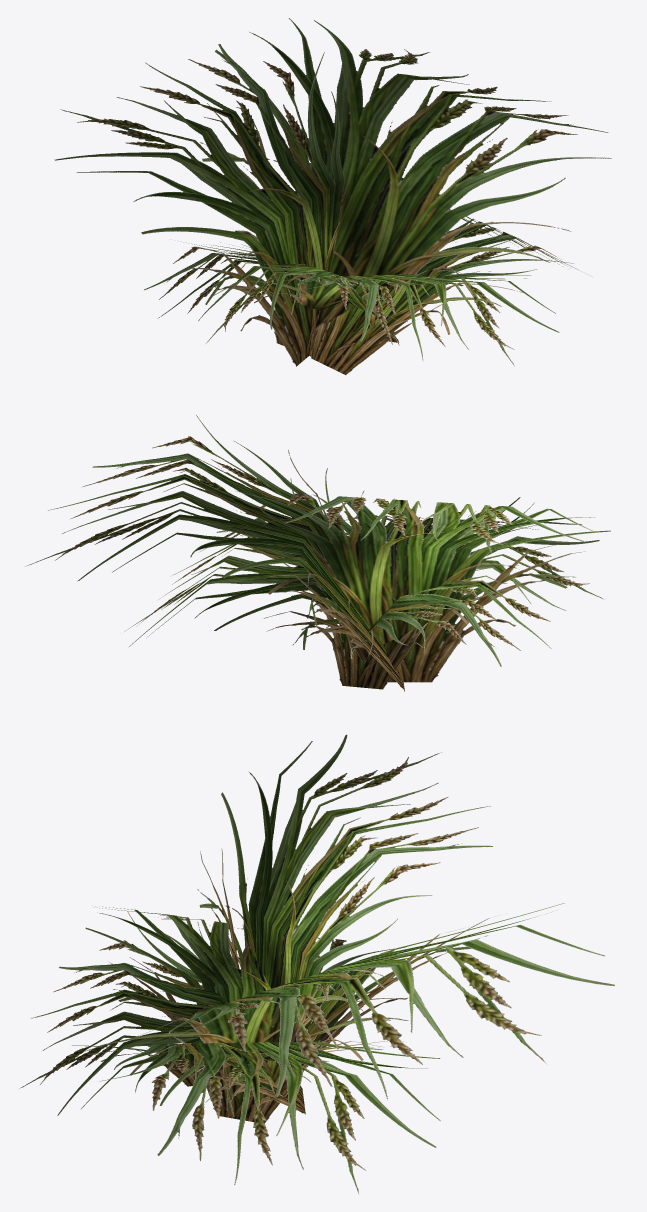
File: SM_Carex_01.fbx
3 views of the same model, one above another, from view 1: azimuth 30°, elevation 25°; view 2: azimuth 150°, elevation 25°; view 3: azimuth 270°, elevation 25° (orthographic). The views are drawn at different scales.
Visible parts, largest first — view 1: SM_Carex_01; view 2: SM_Carex_01; view 3: SM_Carex_01.
Part boxes in pixels (<box>): SM_Carex_01: <box>54,18,611,374</box>; SM_Carex_01: <box>25,415,610,691</box>; SM_Carex_01: <box>19,734,614,1193</box>.
Bounding box in the file's own units: 0.7477 × 0.3109 × 0.6619.
